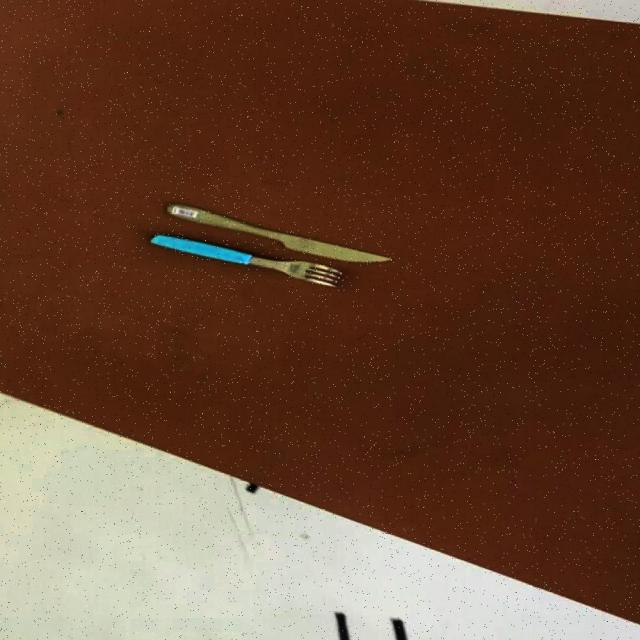Fork: (150, 232, 345, 287)
Knife: (166, 202, 395, 264)
